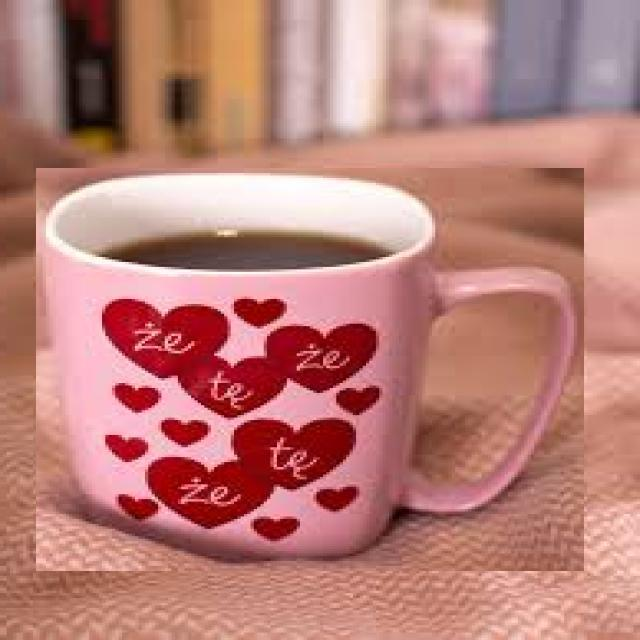Coffee Mug: (48, 173, 580, 555)
